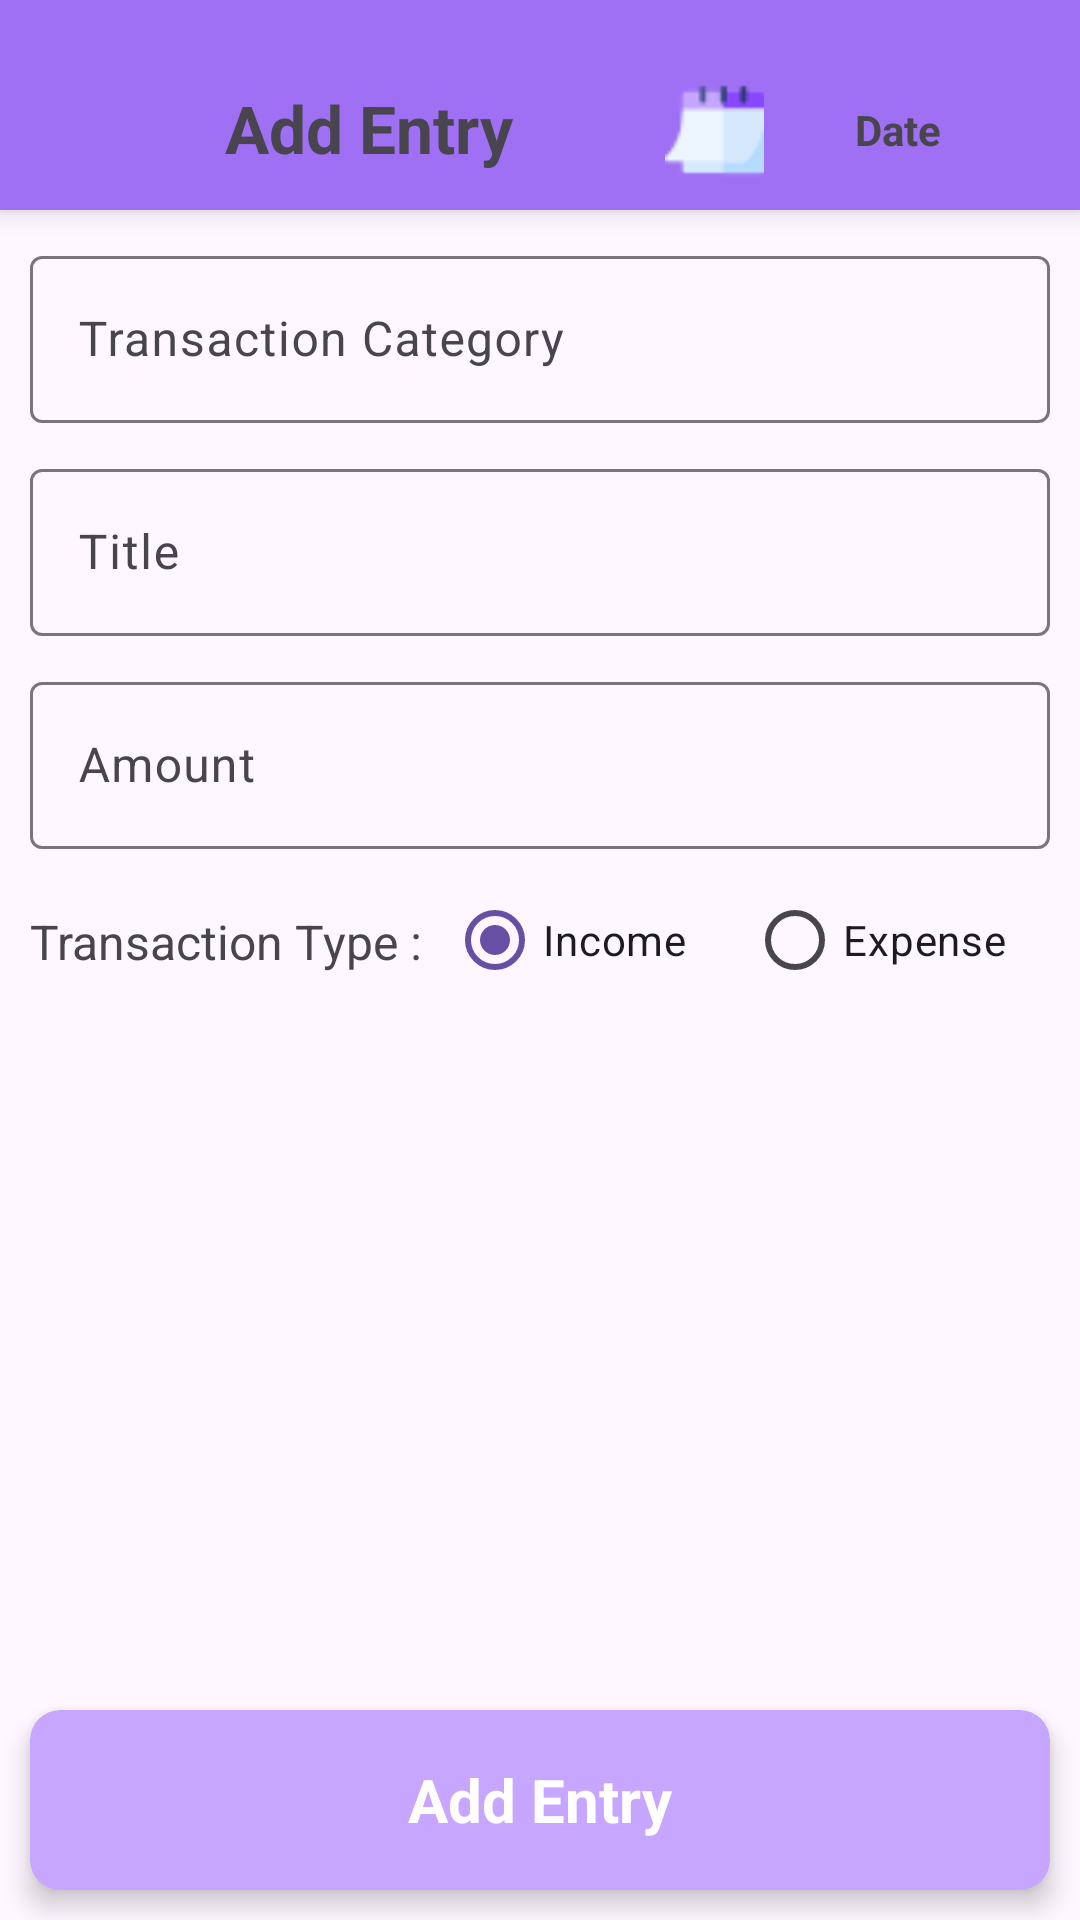

Screen size 1080×1920. Icon name, then its center in pixels as point (x, y):
calendar: point (714, 129)
